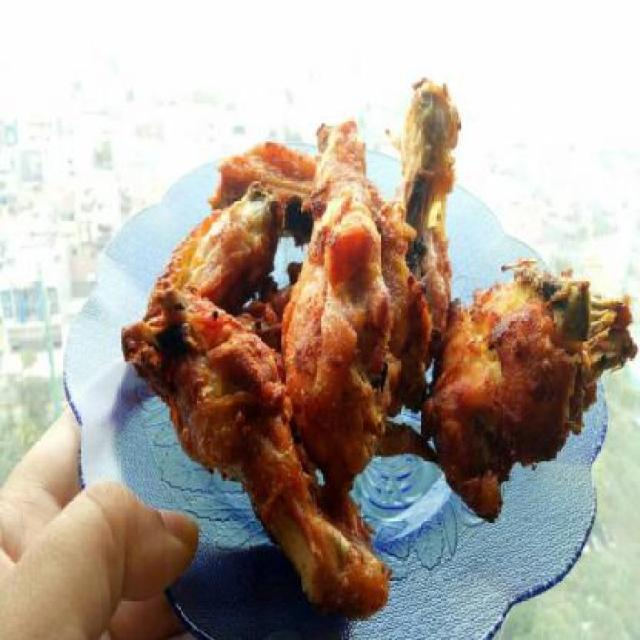Wet Waste: (123, 281, 389, 617), (427, 258, 640, 516), (286, 123, 411, 474), (140, 149, 322, 323), (377, 80, 466, 402)
